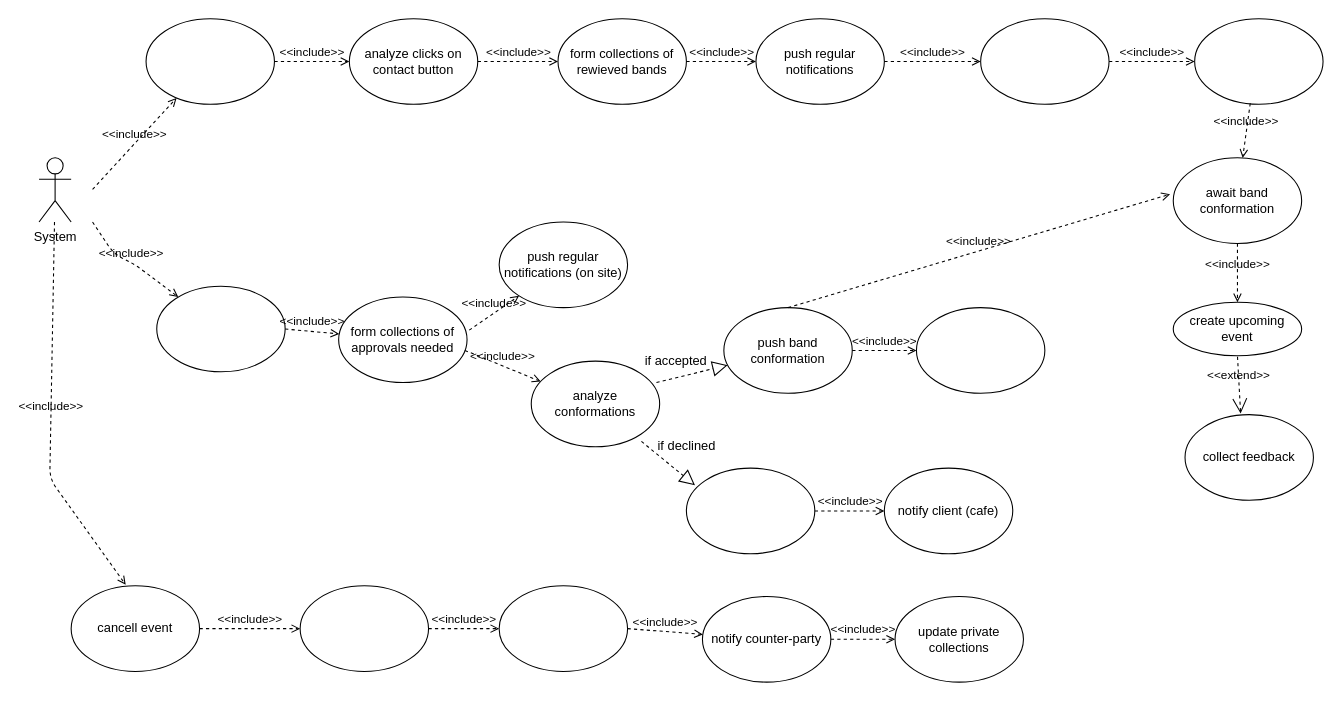
Some shapes in this 1342 by 701 pixel diagram are drawn without their labels. Here are the shapes that lost their labels. From the top down, the centre of each, then its label:
the point at 209,61: collect client (cafe) information of registration
the point at 1044,61: analyze conformations with specified date
the point at 1258,61: notify band
the point at 220,328: Collect band information of registration
the point at 980,350: provide friendly charge
the point at 750,510: mark event as cancelled in db
the point at 364,628: abort charge awaitens
the point at 563,628: remove upcoming event
